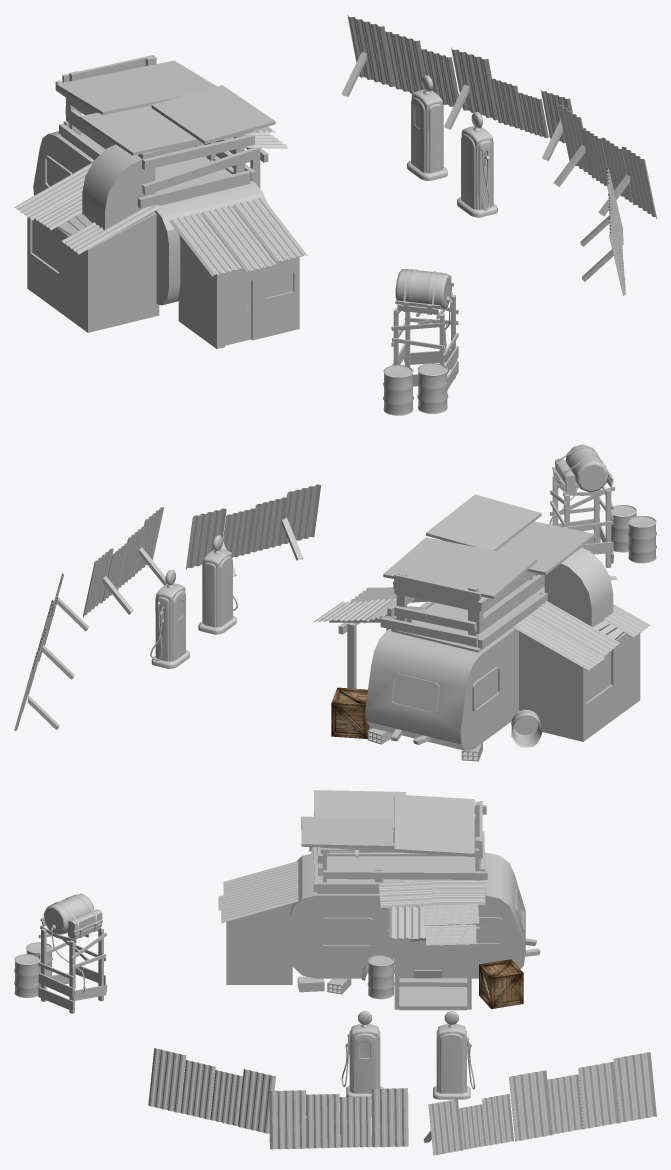
The model's file is MH_comp_roulotte_gas_station_cistern.fbx.
3 renders of one model, top to bottom at view 1: azimuth 30°, elevation 25°; view 2: azimuth 150°, elevation 25°; view 3: azimuth 270°, elevation 25°, orthographic. The views are drawn at different scales.
Visible parts, largest first — view 1: polySurface154, polySurface189, Barricade_014, polySurface151, Cistern1, Barricade_016, body, body1, Barricade_015, Barrel9, Barrel8; view 2: polySurface154, polySurface189, Barricade_015, polySurface151, Cistern1, Barricade_016, body, body1, Box3, Barricade_014, Barrel8, Barrel_broken4 (+1 smaller); view 3: polySurface154, polySurface189, Barricade_014, polySurface151, Barricade_016, Barricade_015, Cistern1, body1, body, Box3, Barrel7, Barrel9.
Part boxes in pixels (<box>): polySurface154: <box>27,131,299,348</box>; polySurface189: <box>51,55,275,235</box>; Barricade_014: <box>341,14,572,160</box>; polySurface151: <box>14,126,307,276</box>; Cistern1: <box>391,269,458,389</box>; Barricade_016: <box>553,105,656,219</box>; body: <box>457,112,497,217</box>; body1: <box>407,75,447,180</box>; Barricade_015: <box>580,167,625,295</box>; Barrel9: <box>417,363,448,413</box>; Barrel8: <box>383,365,413,415</box>; polySurface154: <box>365,547,640,761</box>; polySurface189: <box>329,494,623,688</box>; Barricade_015: <box>186,484,321,576</box>; polySurface151: <box>314,575,650,670</box>; Cistern1: <box>549,444,614,567</box>; Barricade_016: <box>83,507,166,617</box>; body: <box>198,535,237,634</box>; body1: <box>150,570,189,668</box>; Box3: <box>331,687,371,738</box>; Barricade_014: <box>14,573,88,730</box>; Barrel8: <box>628,516,656,563</box>; Barrel_broken4: <box>511,709,542,747</box>; polySurface154: <box>226,848,540,994</box>; polySurface189: <box>301,790,487,1010</box>; Barricade_014: <box>423,1052,656,1155</box>; polySurface151: <box>218,847,485,945</box>; Barricade_016: <box>269,1088,408,1149</box>; Barricade_015: <box>148,1048,275,1133</box>; Cistern1: <box>38,893,107,1013</box>; body1: <box>433,1011,475,1099</box>; body: <box>341,1011,383,1099</box>; Box3: <box>479,959,523,1008</box>; Barrel7: <box>367,955,394,999</box>; Barrel9: <box>14,954,40,998</box>.
Bounding box in the file's own units: 15.36 × 4.51 × 17.19.
